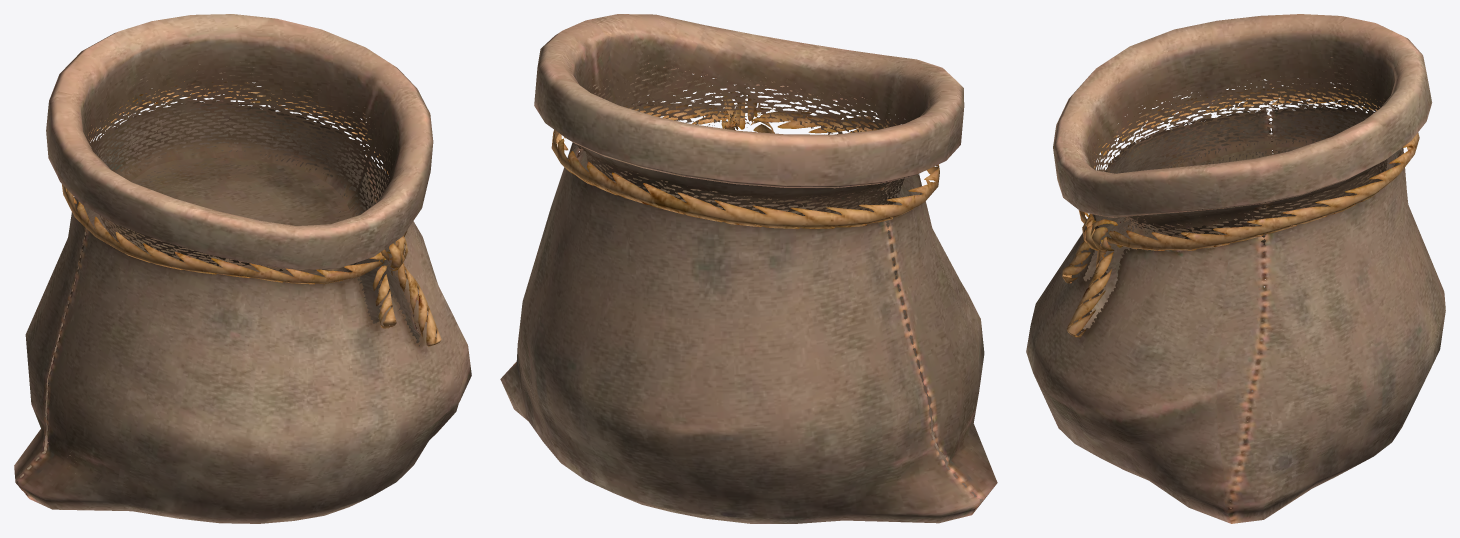
3 renders of one model, left to right at view 1: azimuth 30°, elevation 25°; view 2: azimuth 150°, elevation 25°; view 3: azimuth 270°, elevation 25°, orthographic. The views are drawn at different scales.
Parts seen in each view (by area): view 1: SM_Sack_Large_01_LOD0; view 2: SM_Sack_Large_01_LOD0; view 3: SM_Sack_Large_01_LOD0.
Part boxes in pixels (<box>): SM_Sack_Large_01_LOD0: <box>14,14,471,523</box>; SM_Sack_Large_01_LOD0: <box>500,14,997,523</box>; SM_Sack_Large_01_LOD0: <box>1026,14,1445,523</box>.
Bounding box in the file's own units: 0.9674 × 0.7922 × 0.8283.
Materials: 1 (1 with a texture image).
